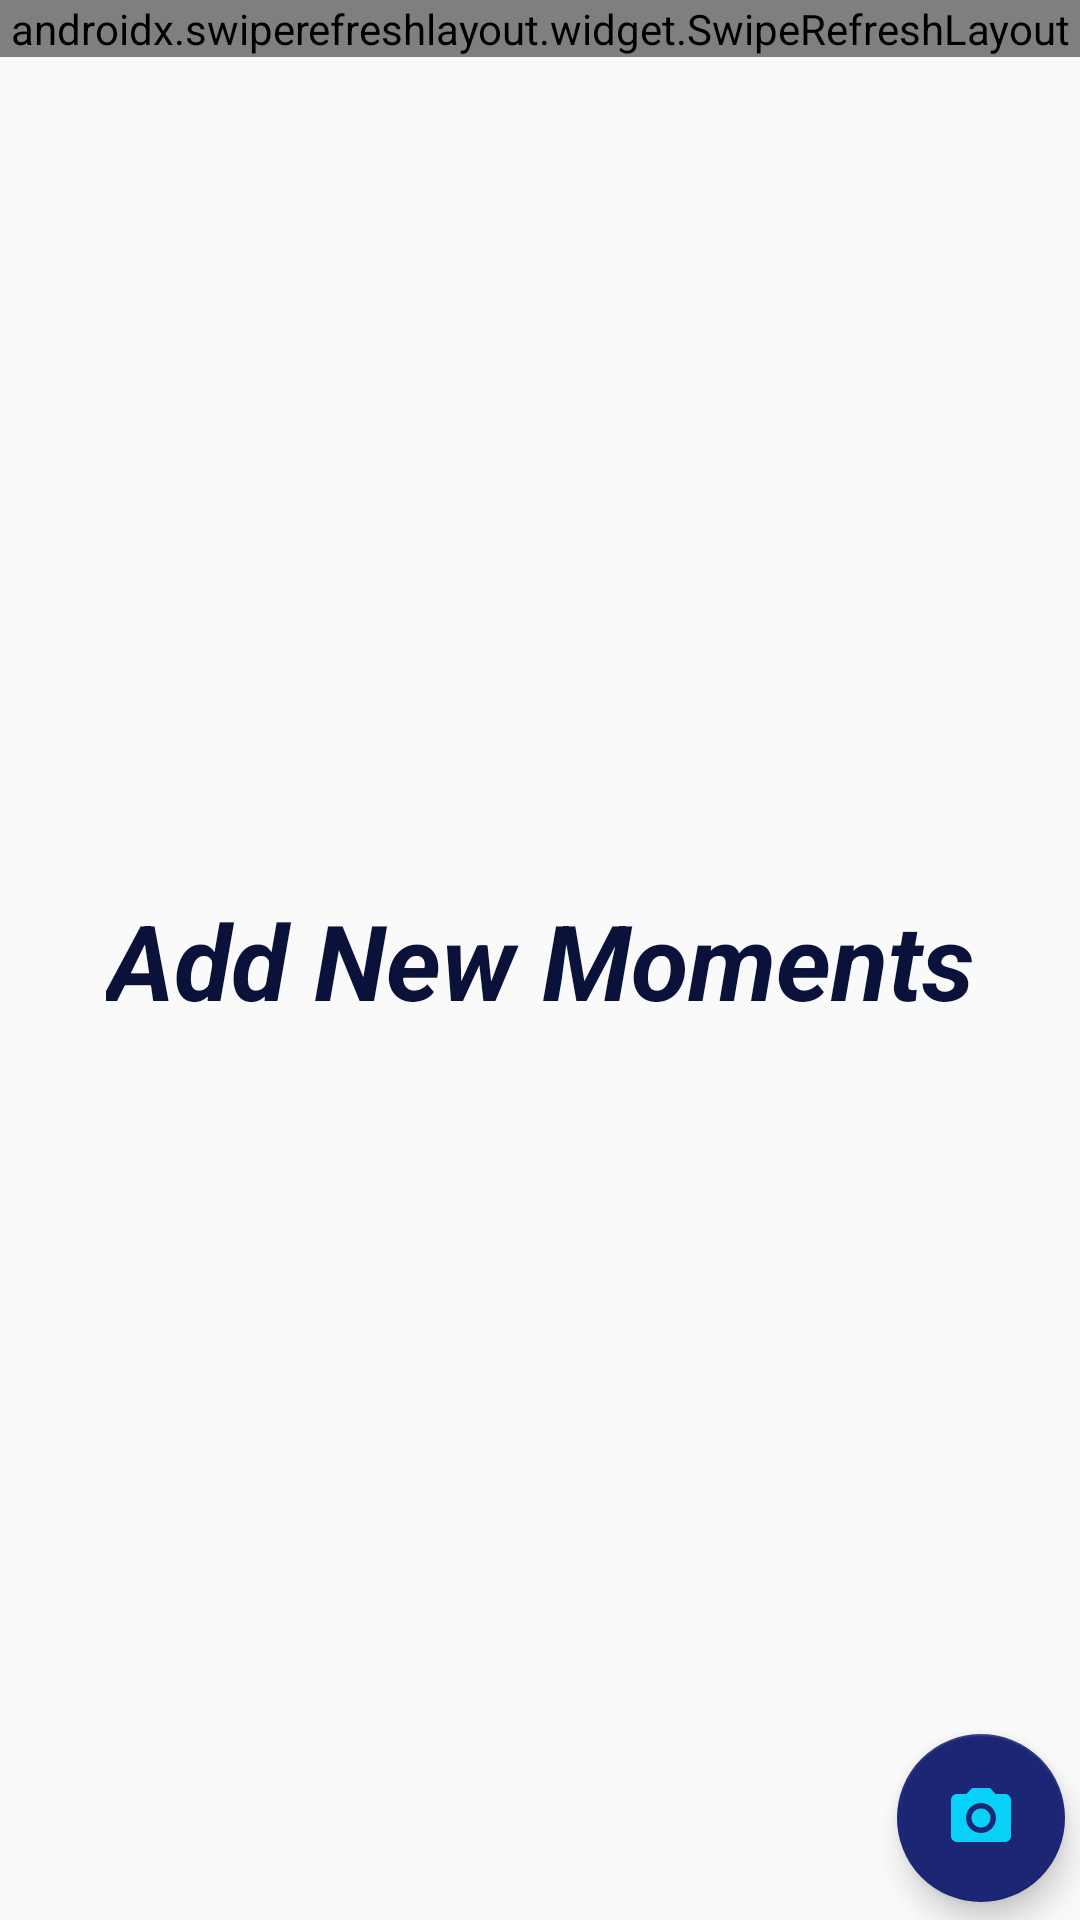

Where icons sit on this 1080px x 1920px app screen, as (x1, y1, x2, y2):
camera: (897, 1734, 1065, 1902)
